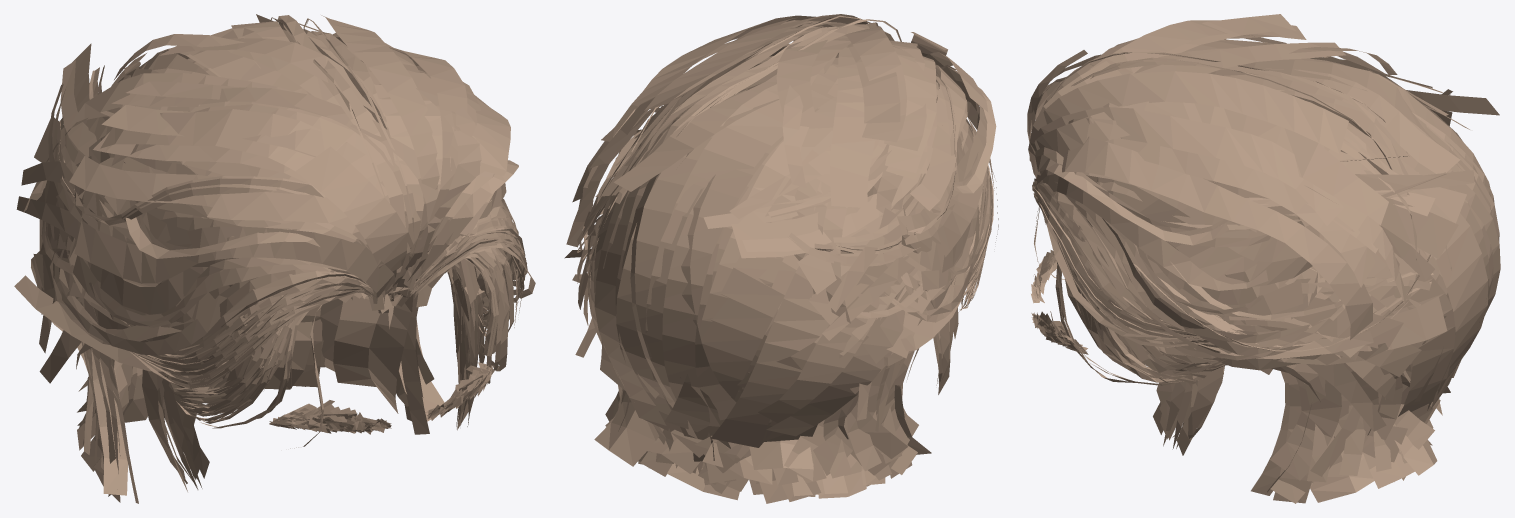
Rendered from male_hair_11_lod0.glb.
The picture shows the model from 3 angles, left to right: view 1: azimuth 30°, elevation 25°; view 2: azimuth 150°, elevation 25°; view 3: azimuth 270°, elevation 25°; orthographic projection. The views are drawn at different scales.
Visible parts, largest first — view 1: hair_11; view 2: hair_11; view 3: hair_11.
Boxes of the visible parts, box(x1,y1,x2,y2) form: hair_11: box(14, 14, 535, 503); hair_11: box(564, 14, 998, 503); hair_11: box(1027, 14, 1500, 503).
Size of the model in its own units: 0.186 by 0.1944 by 0.2133.
